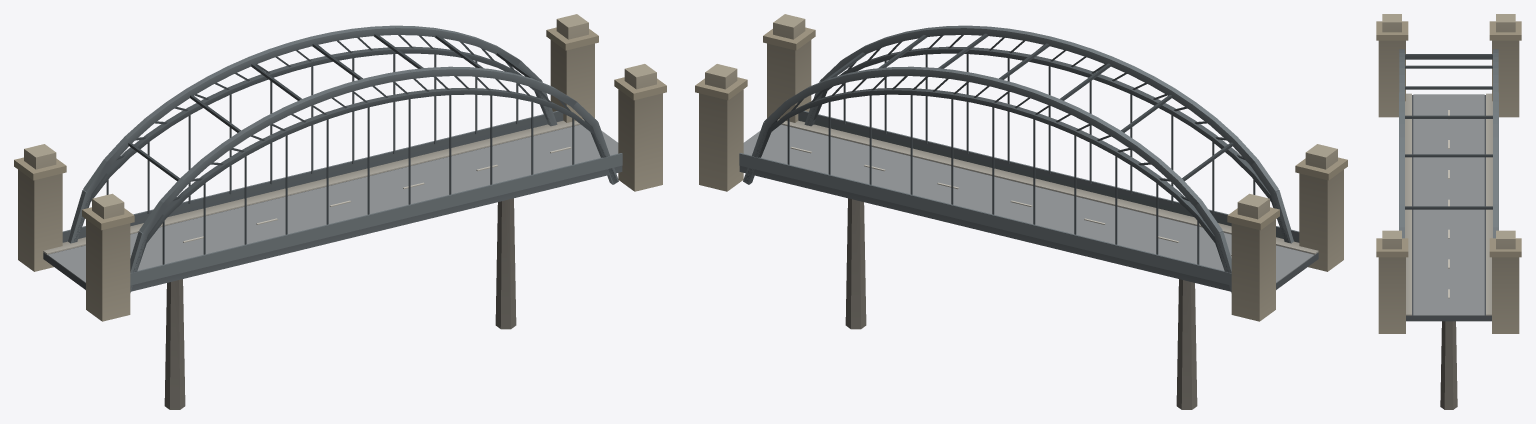
File: br-harbour.glb
3 renders of one model, left to right at view 1: azimuth 30°, elevation 25°; view 2: azimuth 150°, elevation 25°; view 3: azimuth 270°, elevation 25°, orthographic. The views are drawn at different scales.
Size of the model in its own units: 44.2 by 22.95 by 11.8.
